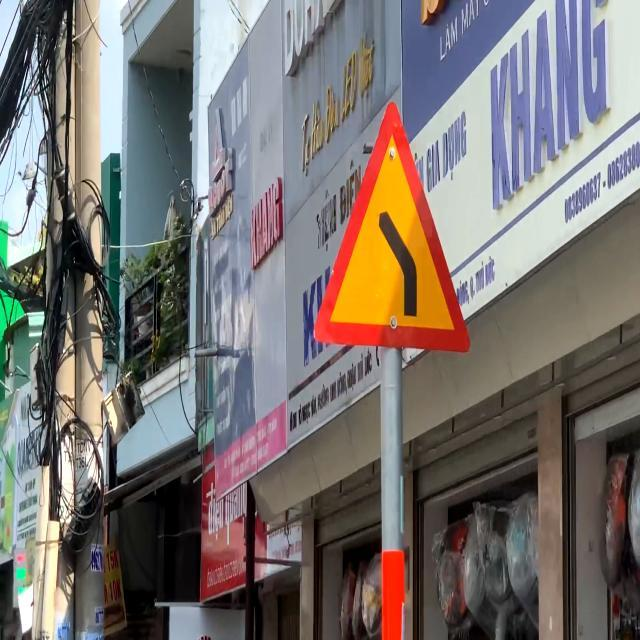W-201a: (308, 101, 472, 352)
